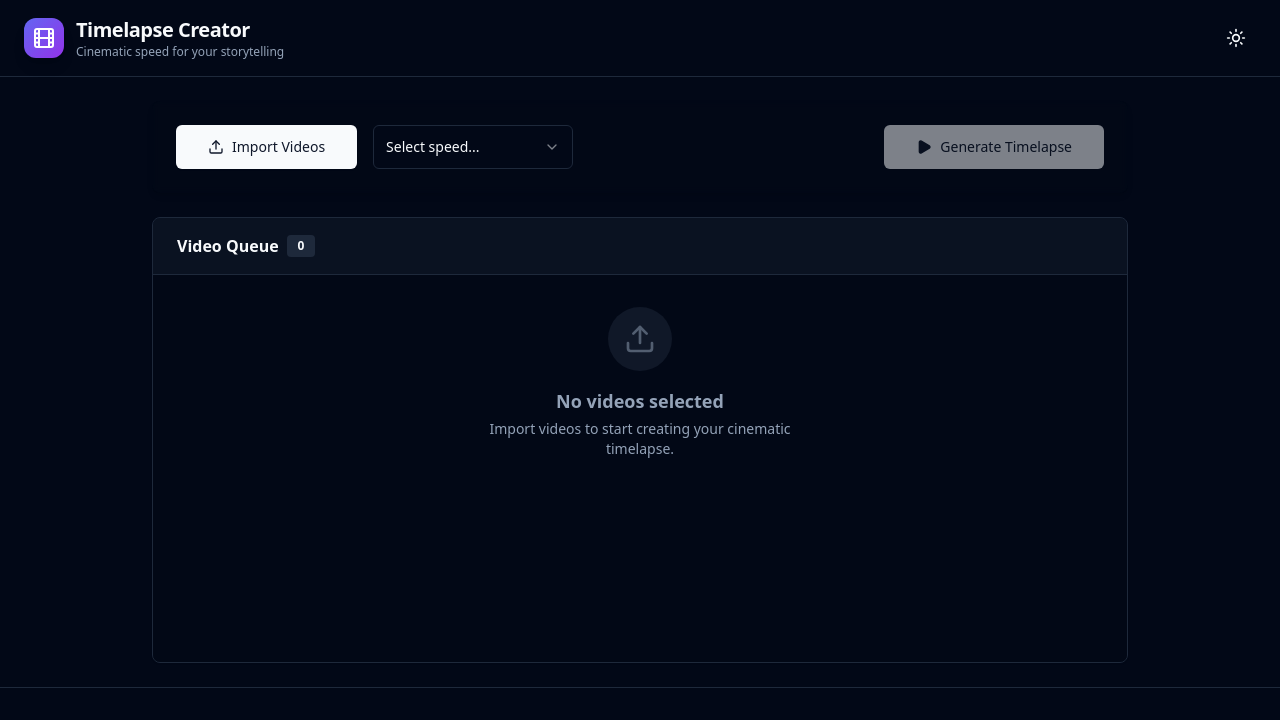
Duration Formatting › formats duration correctly
The image size is (1280, 720).
Click the button "Import Videos". click: [267, 147]
box: [176,125,357,169]
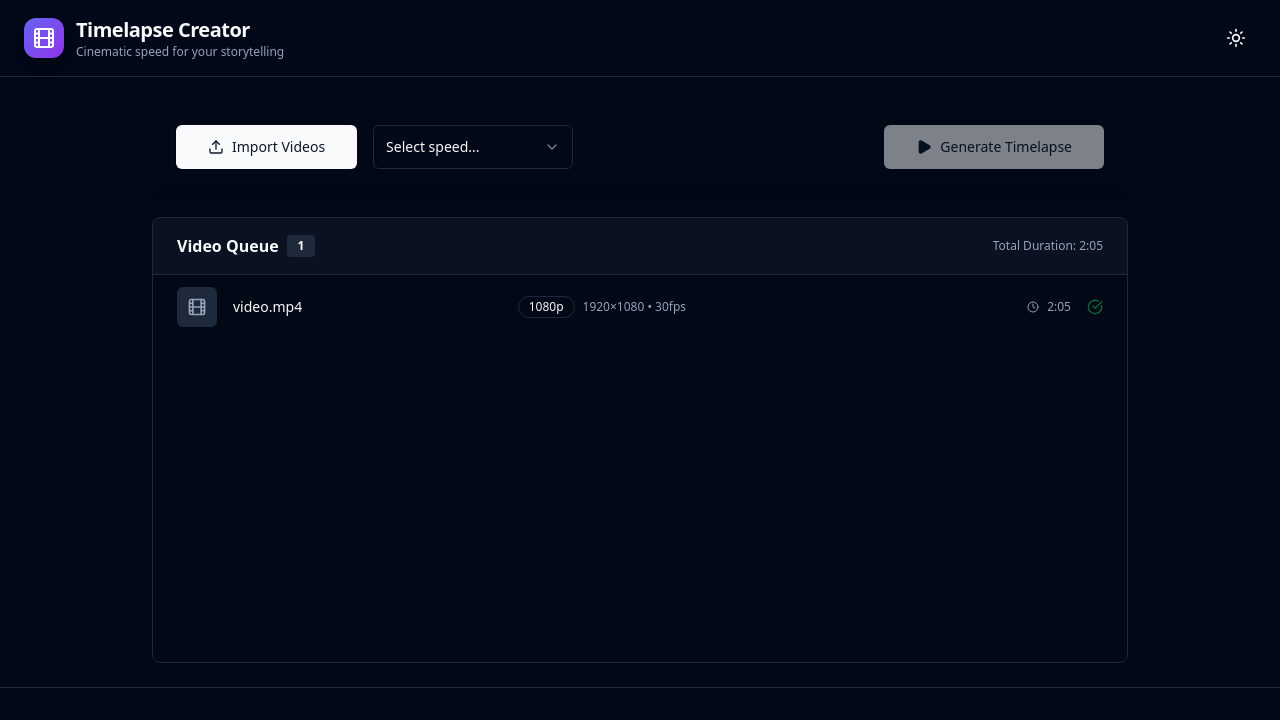
Expected: the text "Total Duration: 2:05" is shown 2 times, [993,238,1103,254]; [1027,298,1071,315]
